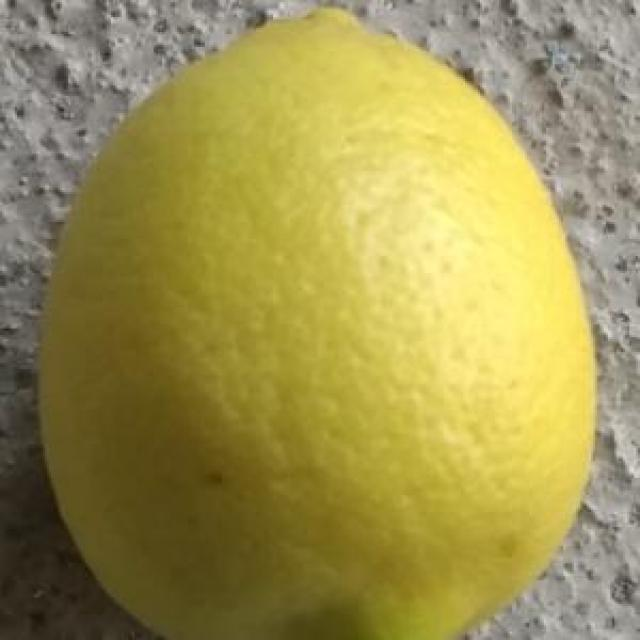lemon: (33, 9, 598, 640)
